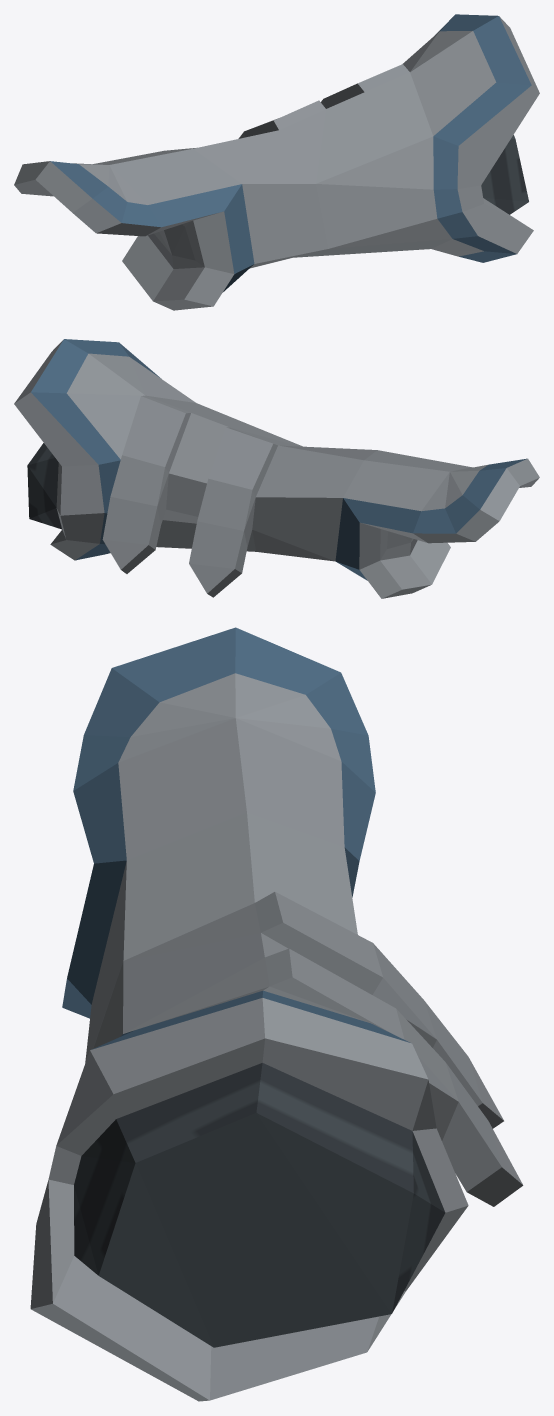
The model's file is Chr_ArmLowerRight_Male_06_Static.fbx.
The picture shows the model from 3 angles, top to bottom: view 1: azimuth 30°, elevation 25°; view 2: azimuth 150°, elevation 25°; view 3: azimuth 270°, elevation 25°; orthographic projection. The views are drawn at different scales.
Parts seen in each view (by area): view 1: Chr_ArmLowerRight_Male_06_Static; view 2: Chr_ArmLowerRight_Male_06_Static; view 3: Chr_ArmLowerRight_Male_06_Static.
Part boxes in pixels (x1,y1,x2,y2): Chr_ArmLowerRight_Male_06_Static: (14, 14, 539, 310); Chr_ArmLowerRight_Male_06_Static: (14, 339, 539, 598); Chr_ArmLowerRight_Male_06_Static: (30, 627, 523, 1401).
Size of the model in its own units: 0.3929 by 0.1767 by 0.1819.
